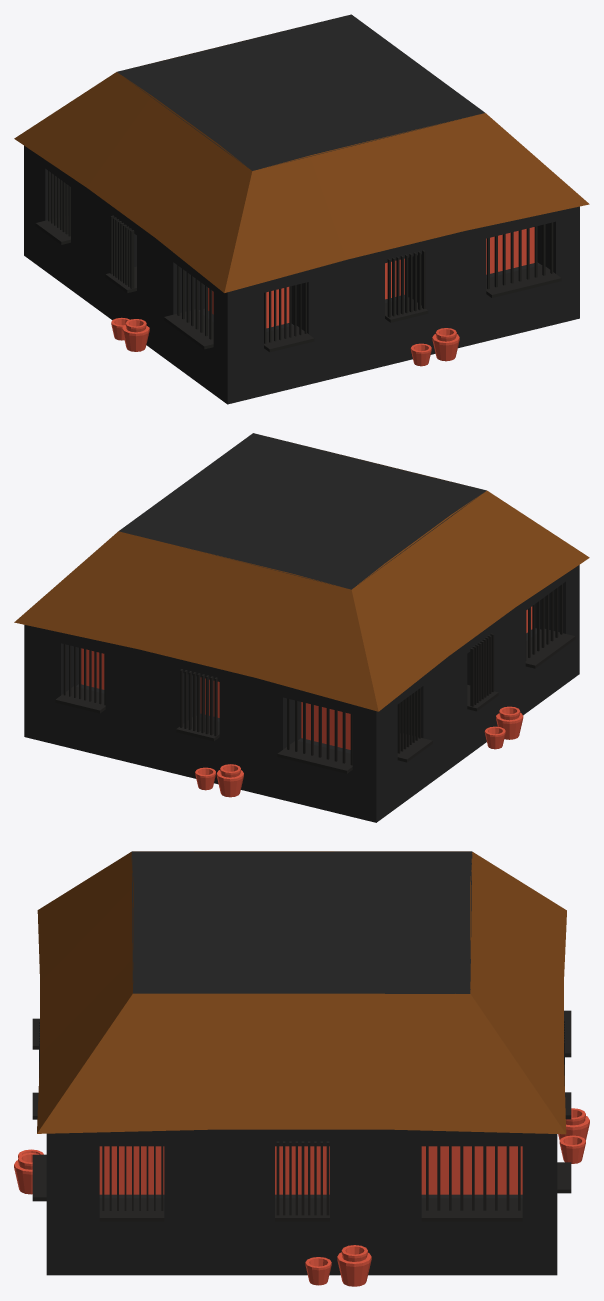
File: casa procedural_relleno_1.fbx
The picture shows the model from 3 angles, top to bottom: view 1: azimuth 30°, elevation 25°; view 2: azimuth 150°, elevation 25°; view 3: azimuth 270°, elevation 25°; orthographic projection. The views are drawn at different scales.
Parts seen in each view (by area): view 1: Procedural_Building; view 2: Procedural_Building; view 3: Procedural_Building.
Boxes of the visible parts, box(x1,y1,x2,y2) form: Procedural_Building: box(14, 14, 589, 404); Procedural_Building: box(14, 433, 589, 822); Procedural_Building: box(14, 851, 589, 1286).
Bounding box in the file's own units: 338 × 159 × 338.
